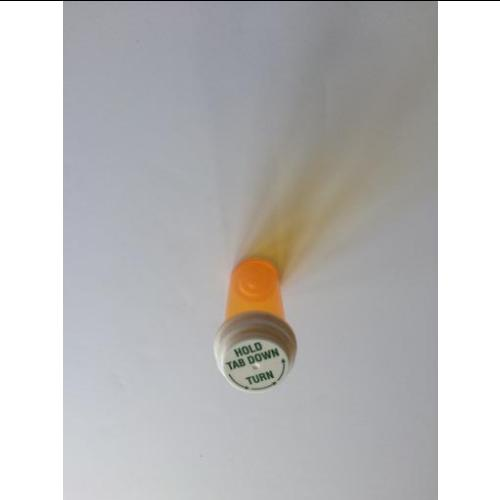plastic: (217, 260, 295, 393)
